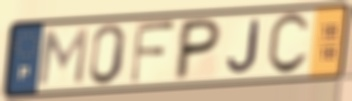0: (88, 23, 129, 87)
C: (264, 10, 312, 78)
F: (128, 19, 179, 86)
J: (225, 18, 262, 75)
M: (36, 26, 91, 88)
P: (171, 17, 225, 83)
